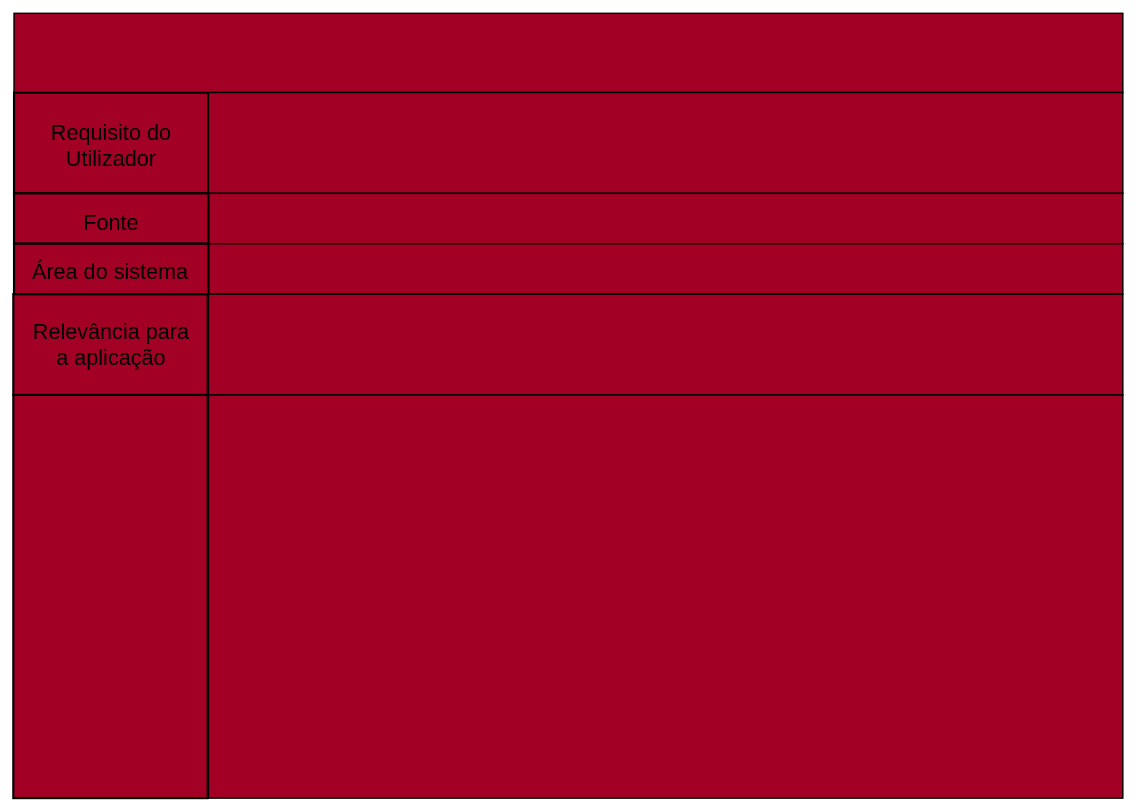
Some shapes in this 1136 by 811 pixel diagram are drawn without their labels. Each missing label, with the centre of its shape:
Requisito 1: pixel 568 52
Requisitos de sistema: pixel 110 596
